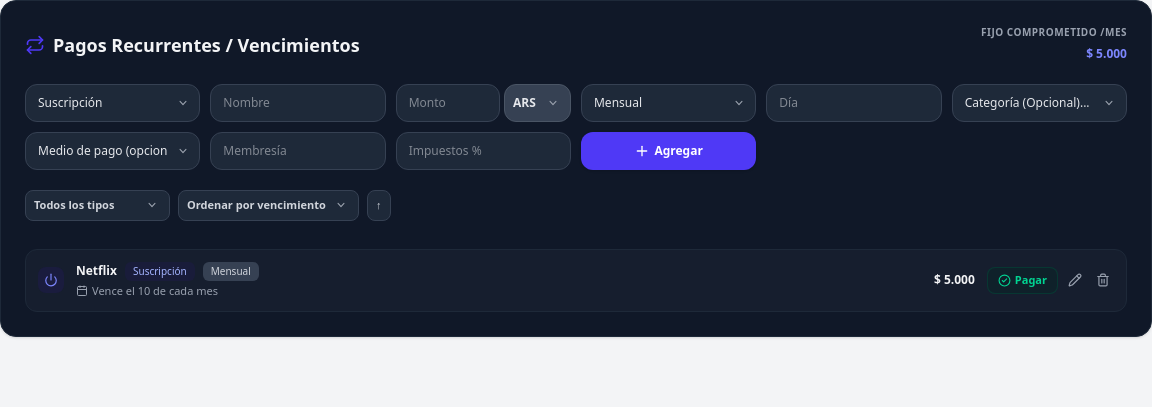
RecurringManager — editar suscripción existente › el botón Editar precarga el formulario con los datos de la suscripción
Click the button titled "Editar".
click(1075, 280)  # box [1064, 269, 1086, 291]
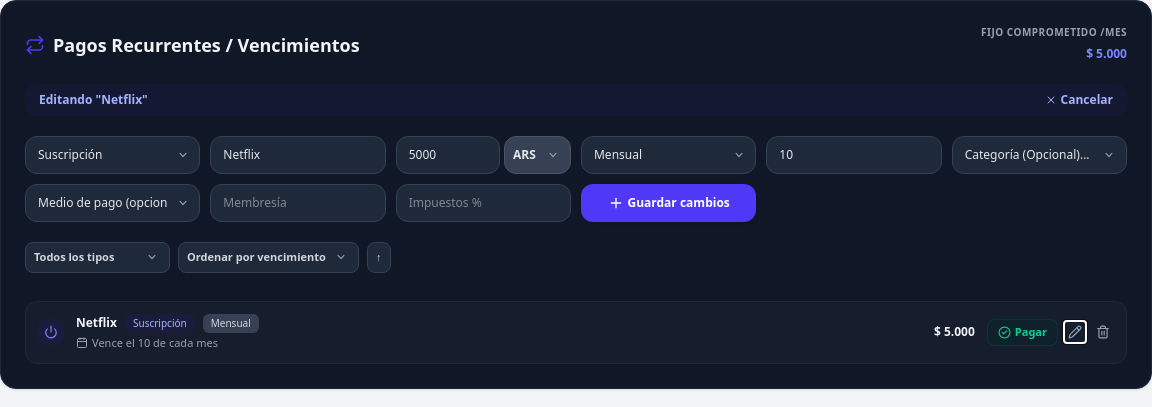
Check: the field showing "Netflix" is shown, box [210, 136, 386, 174]
Check: the number field showing "5000" is shown, box [396, 136, 500, 174]
Check: the text "Editando \"Netflix\"" is shown, box [39, 92, 148, 108]
